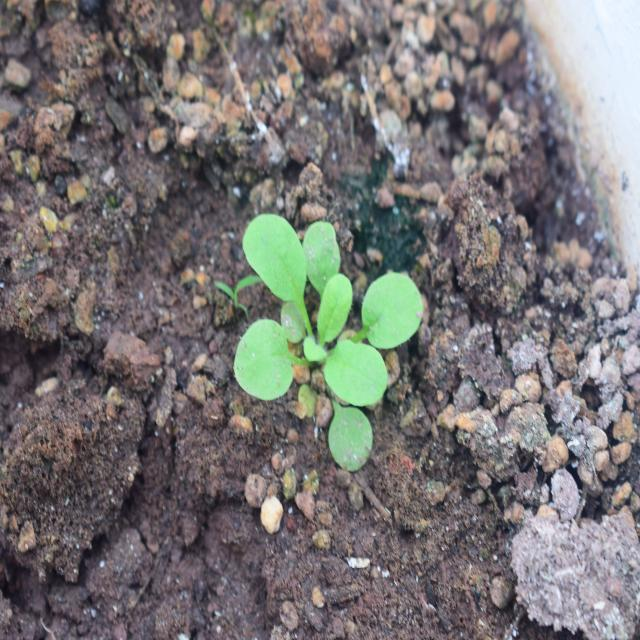Shepherd_Purse: (225, 199, 426, 466)
